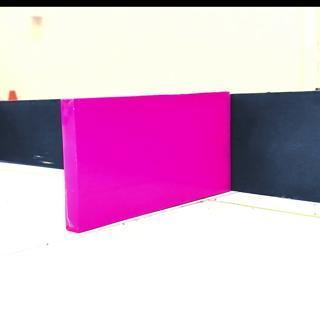xparking: (60, 100, 232, 214)
